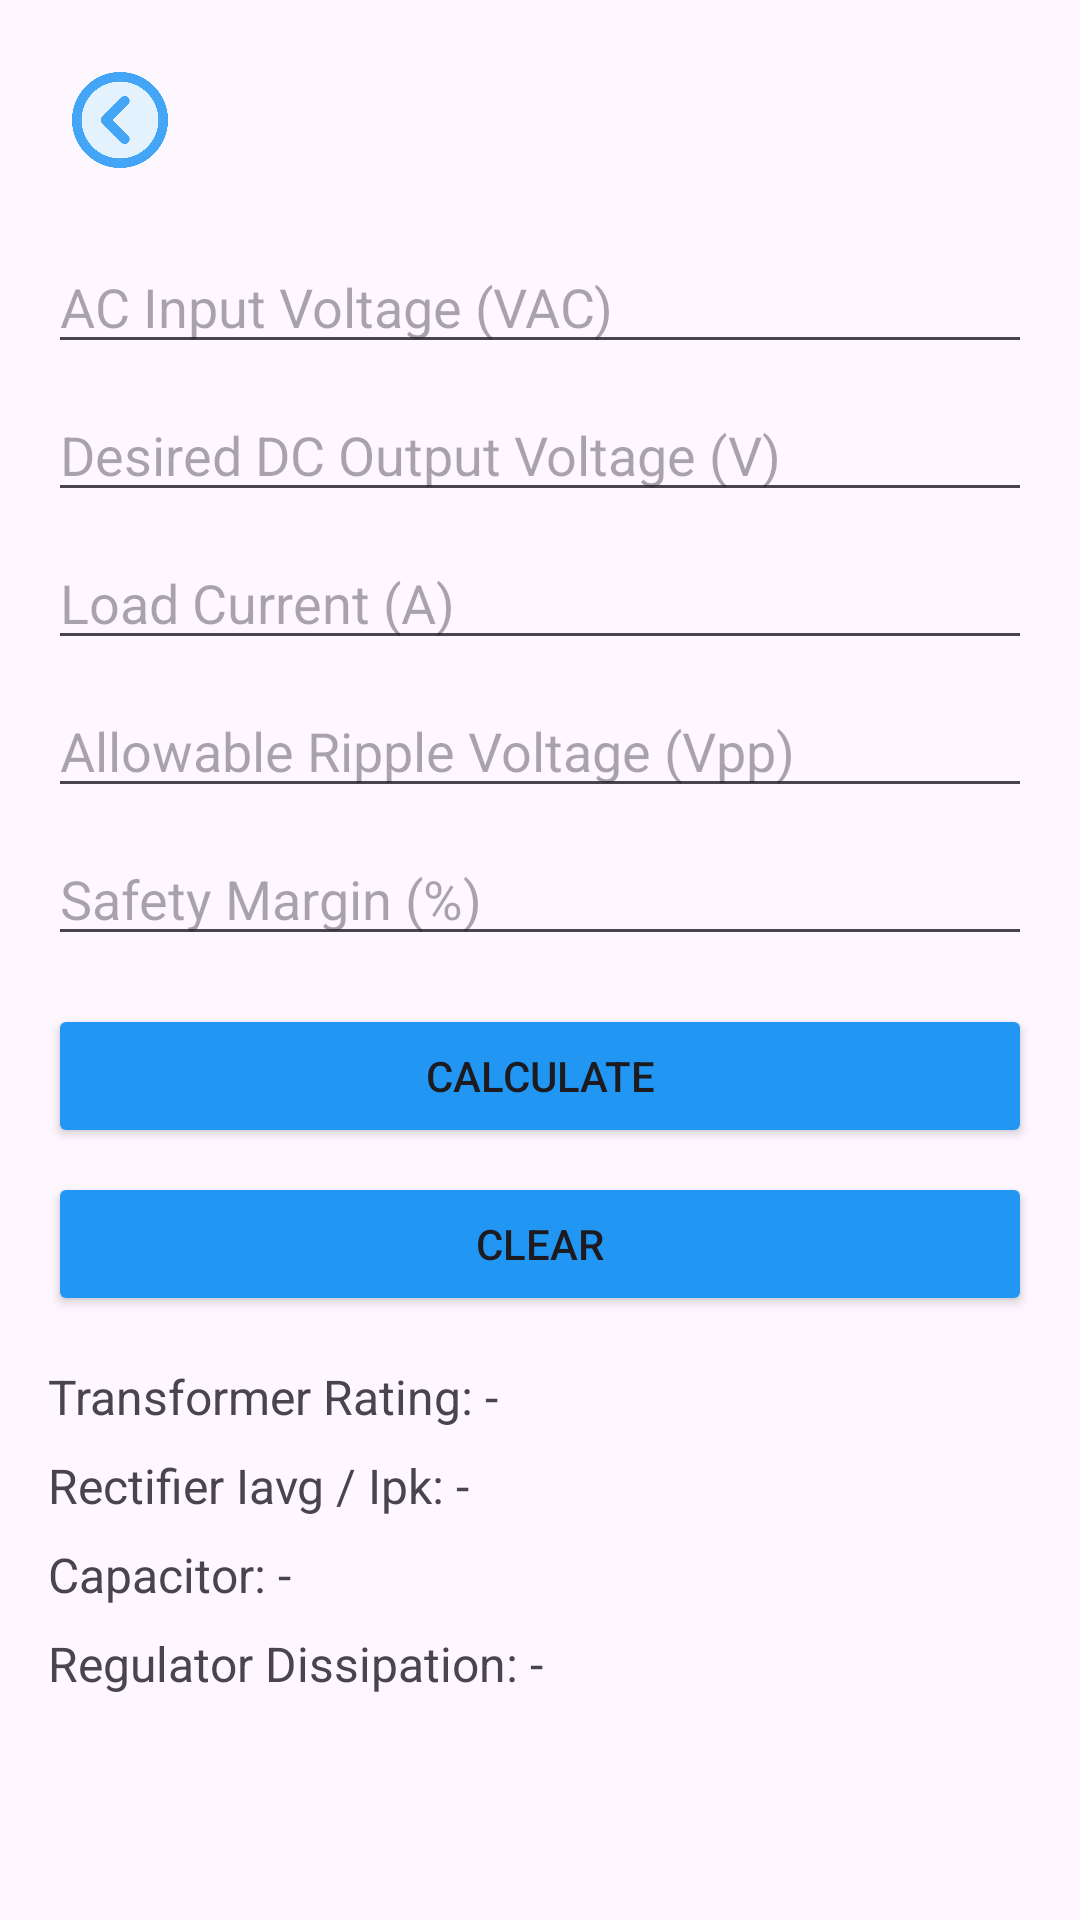

Icon click points for this 1080px×1920px phone screenshot, format [x,y]:
Go Back: [120,120]
